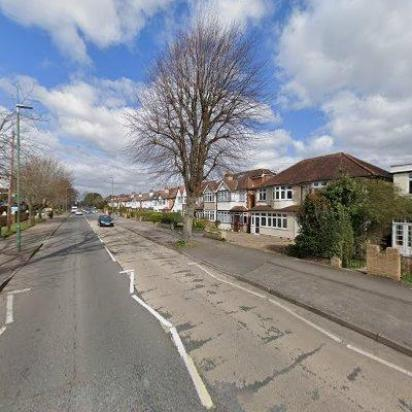moving-car: (98, 213, 114, 227), (74, 209, 84, 215), (85, 208, 93, 214)
stationary-light-truck-onstreet: (70, 206, 78, 212)
